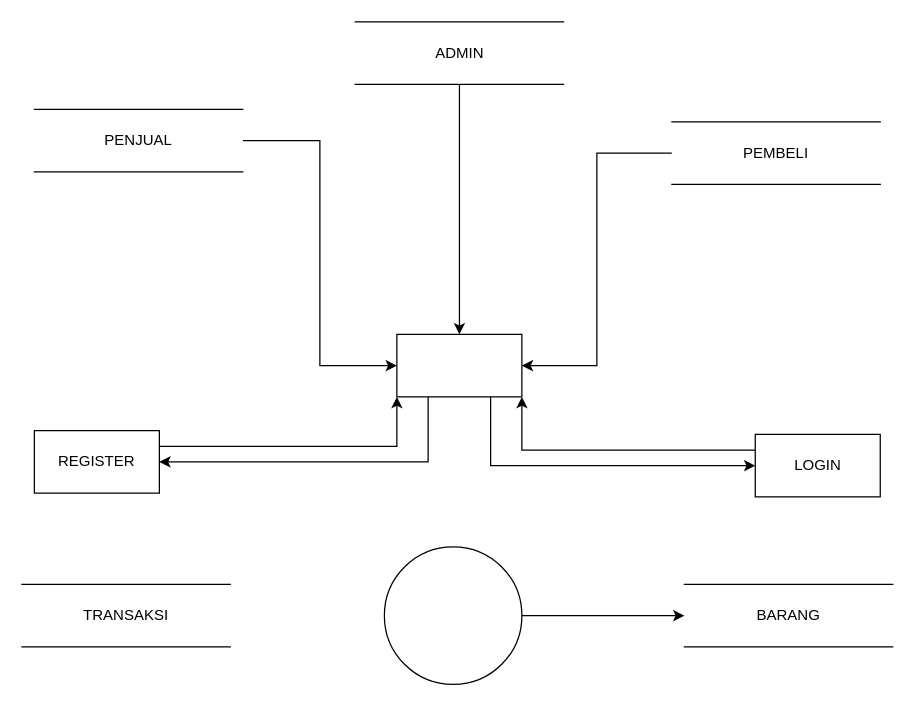
Image size: 915x706. Some labels were removed from this diagram. The shapes that lost their labels are listed below. From the top down, each one's centre as x and y in pixels, then its label:
(x=459, y=365): MENU
(x=452, y=615): MEMBELI
